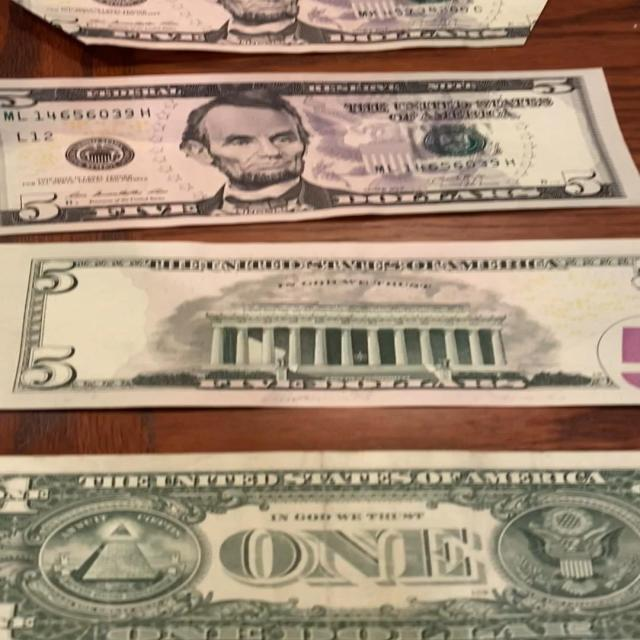1-Back: (0, 448, 640, 640)
5-Back: (0, 235, 640, 414)
5-Front: (0, 62, 640, 234), (10, 0, 575, 60)
